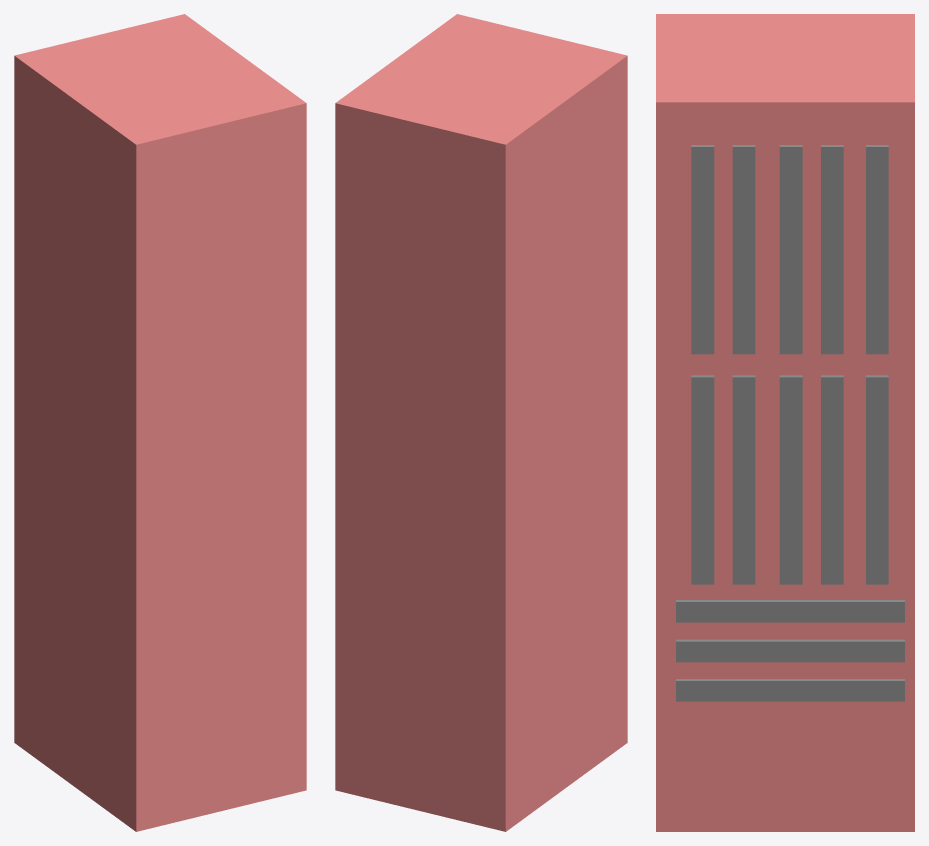
Rendered from Building02.FBX.
3 renders of one model, left to right at view 1: azimuth 30°, elevation 25°; view 2: azimuth 150°, elevation 25°; view 3: azimuth 270°, elevation 25°, orthographic. The views are drawn at different scales.
Parts seen in each view (by area): view 1: Box002; view 2: Box002; view 3: Box002.
Boxes of the visible parts, <box> form: Box002: <box>14,14,306,831</box>; Box002: <box>335,14,627,831</box>; Box002: <box>656,14,914,831</box>.
Bounding box in the file's own units: 32.62 × 123 × 39.45.
